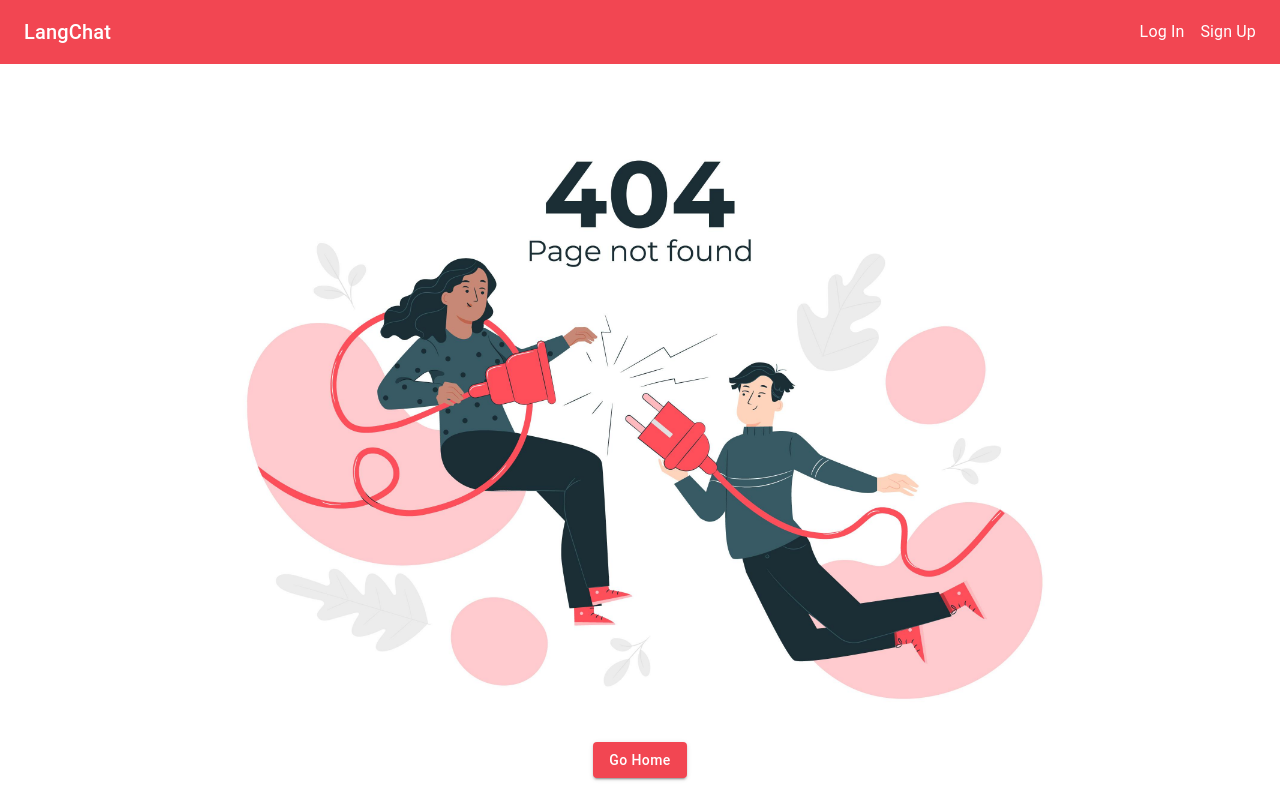
Test case: Redirects › displays 404 page
This screenshot has width=1280, height=800.
Click the button "Go Home" at [640, 761], box [593,742,686,779]
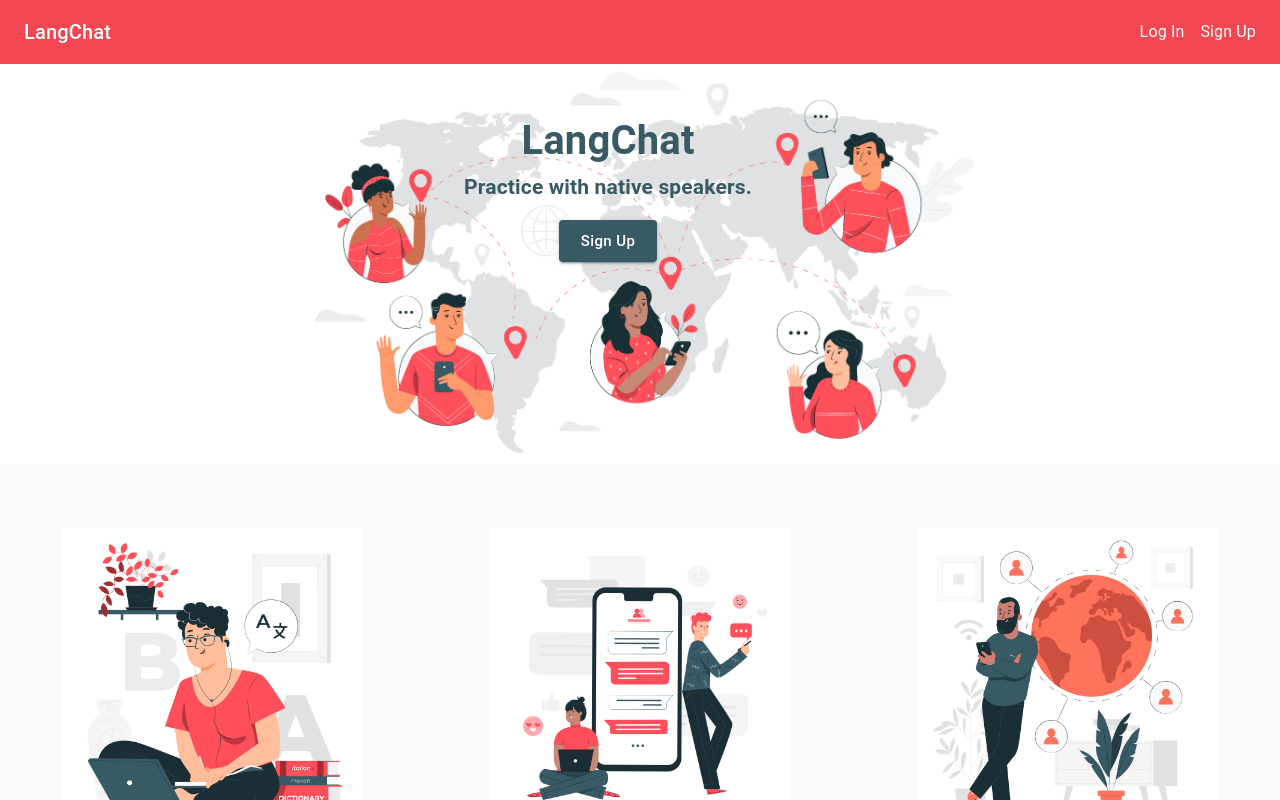
Check: the text "Practice with native speakers" is shown, box [464,175,752,199]
